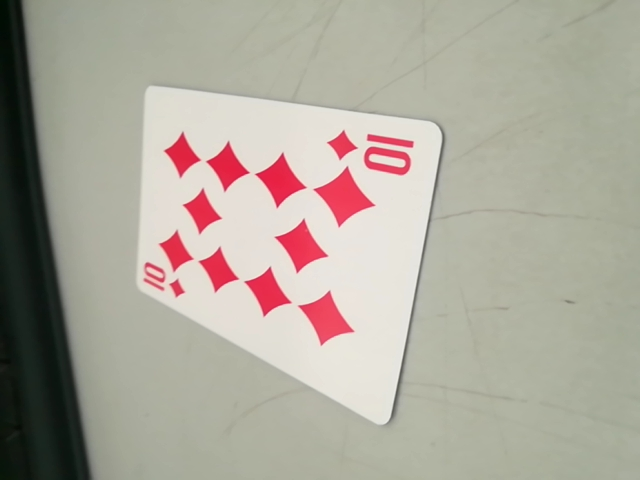fk 10: (324, 125, 423, 175), (135, 261, 190, 304)
